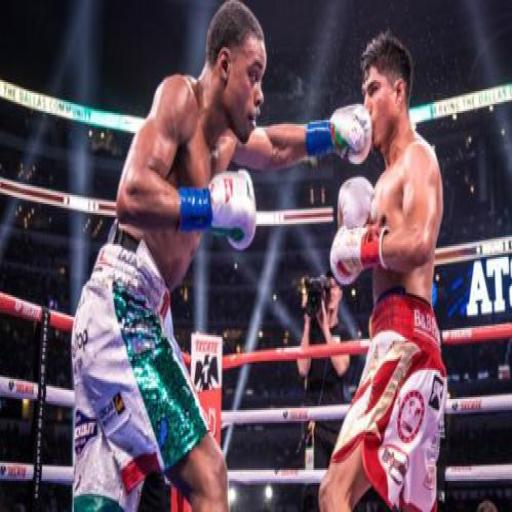boxing: (69, 0, 371, 510)
